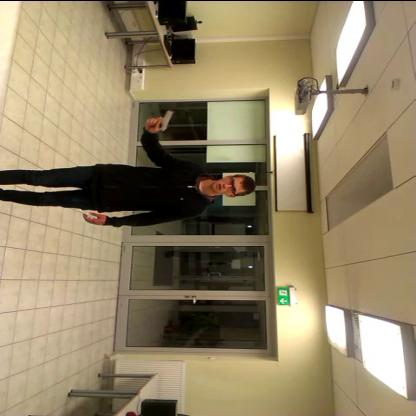Pistol: (149, 102, 181, 134)
